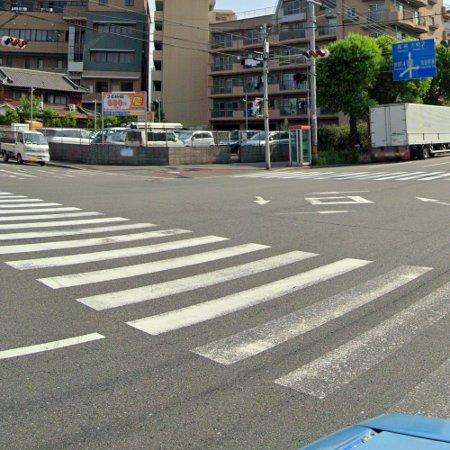crosswalks: (0, 187, 450, 419)
